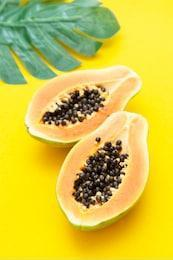papaya: (56, 111, 150, 231), (26, 65, 143, 146)
